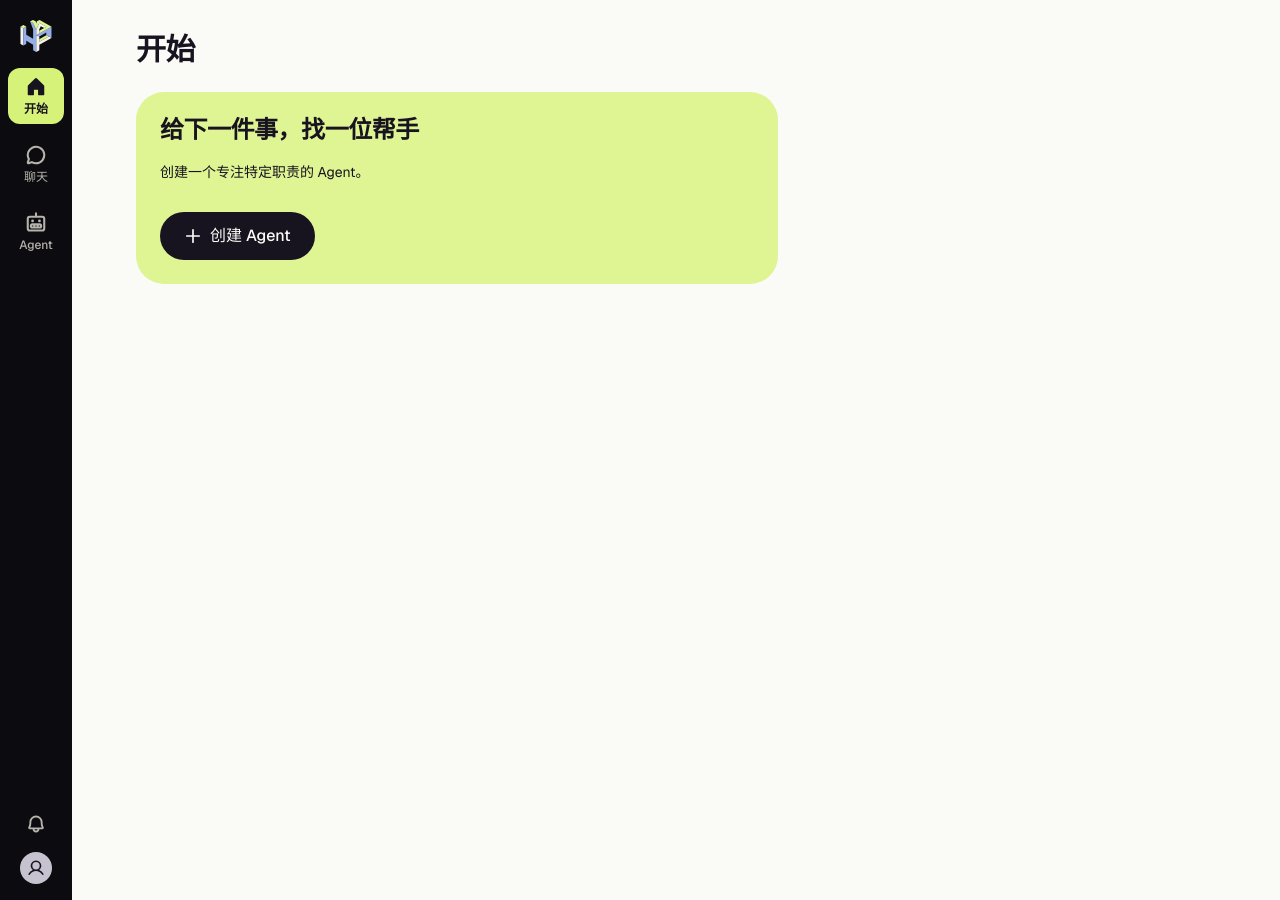
it: contacts fixture page › opens the create form from the contacts page
Click the button "Agent": (36, 232) [8, 204, 64, 260]
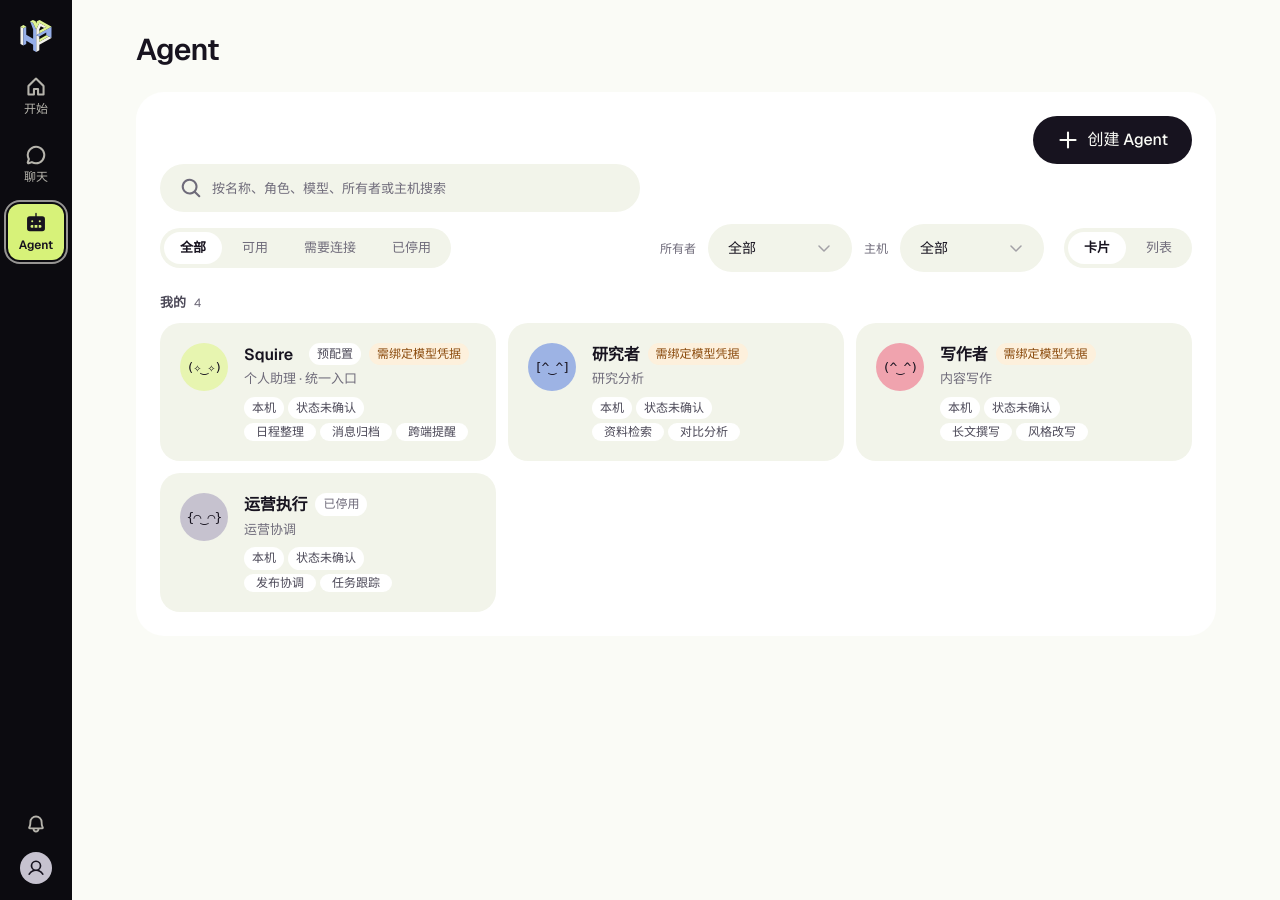
Click the button "创建 Agent": (1113, 140) [1033, 116, 1192, 164]
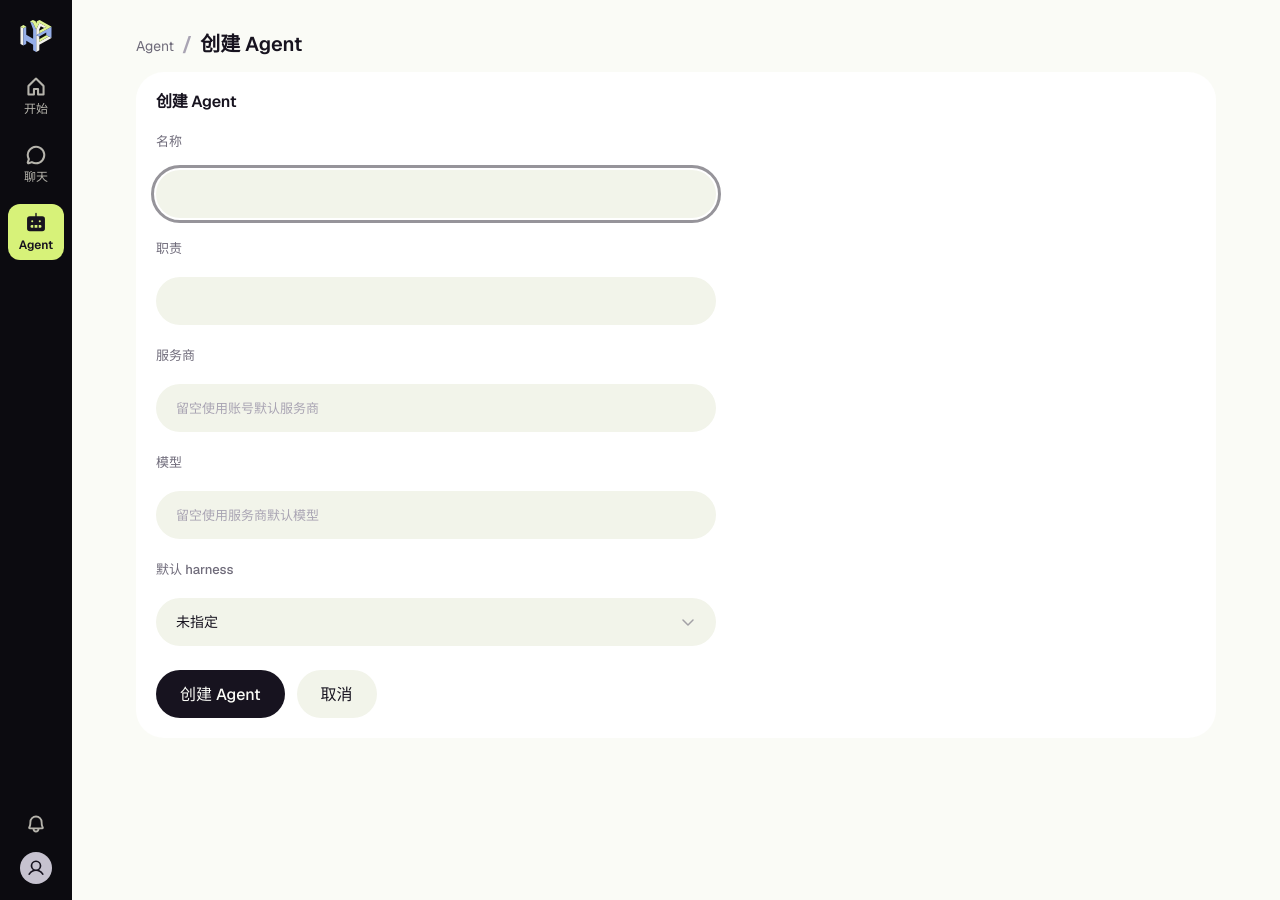
Result: the heading "创建 Agent" is shown at [156, 92, 236, 111]
Result: the field labelled "名称" is shown at [156, 170, 716, 218]
